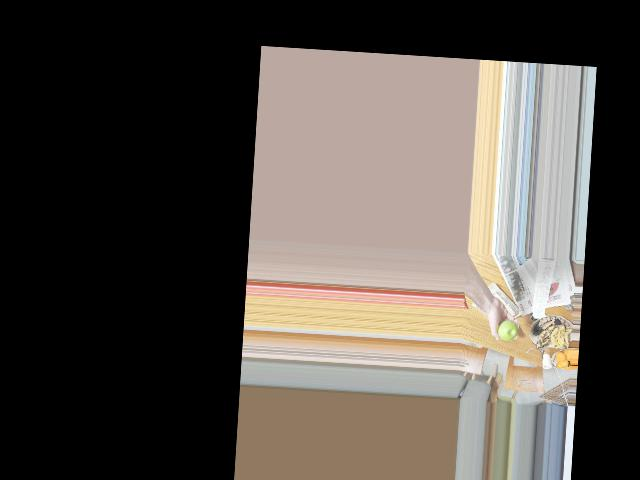apple: (497, 318, 517, 342)
